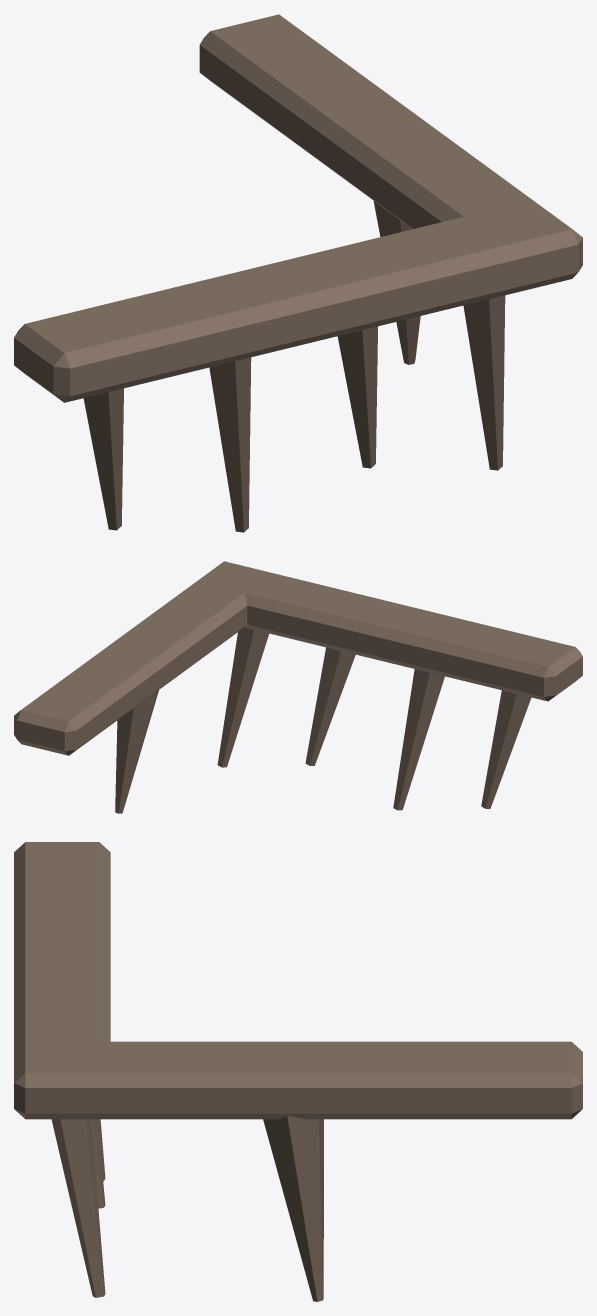
The model's file is beira_canto.glb.
The picture shows the model from 3 angles, top to bottom: view 1: azimuth 30°, elevation 25°; view 2: azimuth 150°, elevation 25°; view 3: azimuth 270°, elevation 25°; orthographic projection. The views are drawn at different scales.
Visible parts, largest first — view 1: pedreira_beira_canto; view 2: pedreira_beira_canto; view 3: pedreira_beira_canto.
Boxes of the visible parts, bbox=[...] form: pedreira_beira_canto: bbox=[14, 14, 582, 532]; pedreira_beira_canto: bbox=[14, 561, 582, 813]; pedreira_beira_canto: bbox=[14, 842, 582, 1301].
Bounding box in the file's own units: 1 × 0.4671 × 1.
